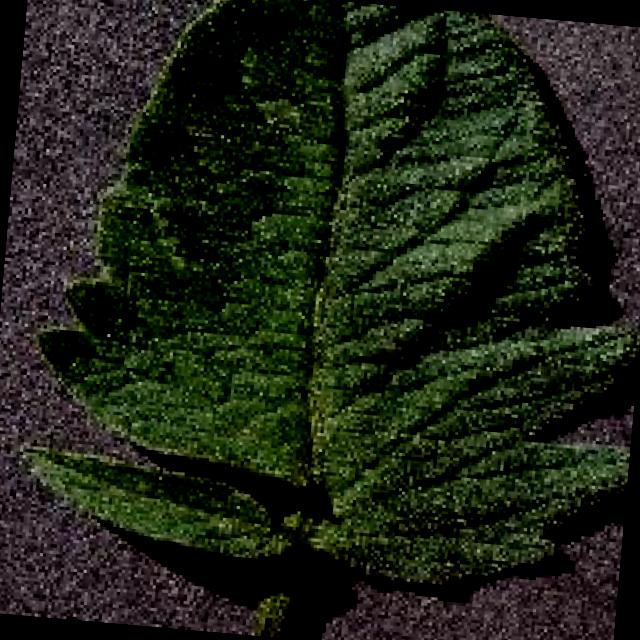healthy: (0, 0, 640, 638)
